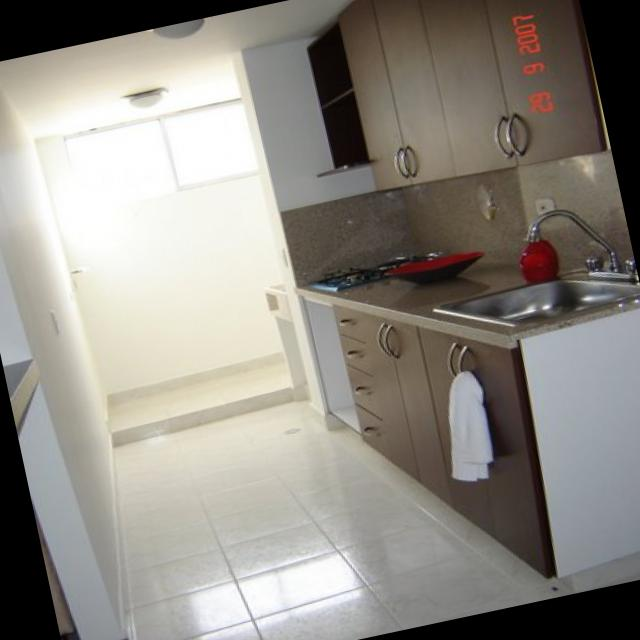2001: (61, 102, 256, 214)
Bowl: (381, 245, 488, 289)
Handles: (481, 103, 541, 176)
Stove: (318, 235, 428, 293)
Tile: (208, 497, 310, 549), (195, 476, 287, 518)
Towel: (444, 371, 493, 480)
cupboard crop: (330, 0, 455, 187)
drawer handle: (329, 300, 373, 343), (343, 366, 378, 419)
floor -X: (118, 395, 565, 640)
light switch plate: (121, 84, 166, 108), (148, 17, 205, 34)
sink basin: (428, 272, 640, 326)
sink unit: (526, 208, 631, 278)
step: (111, 386, 299, 446)
tile wall: (234, 549, 364, 621), (223, 520, 338, 579)
